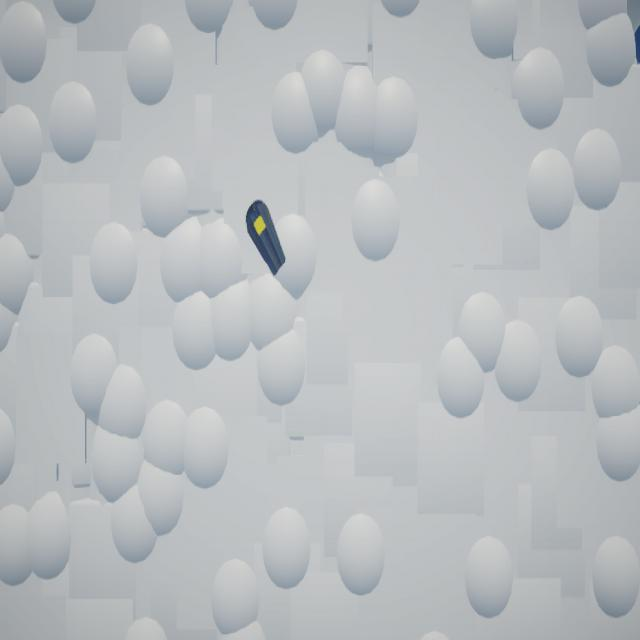handle_folk: (246, 200, 287, 278)
